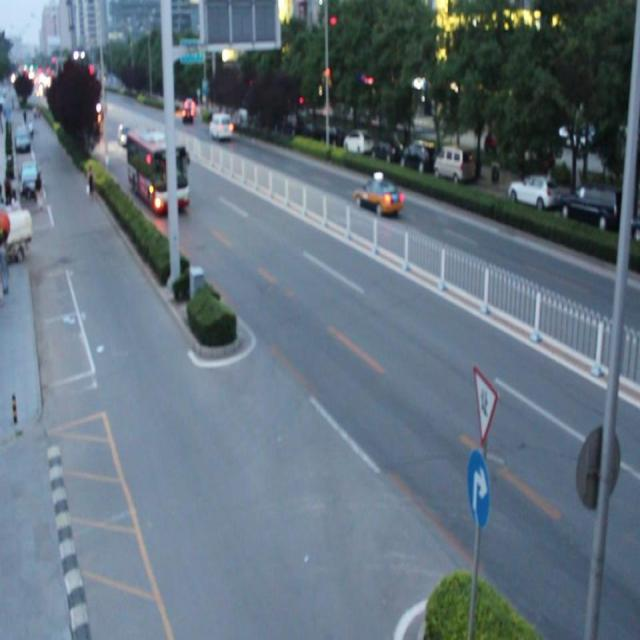car: (352, 174, 402, 218)
truck: (209, 114, 233, 141)
van: (126, 124, 190, 214)
